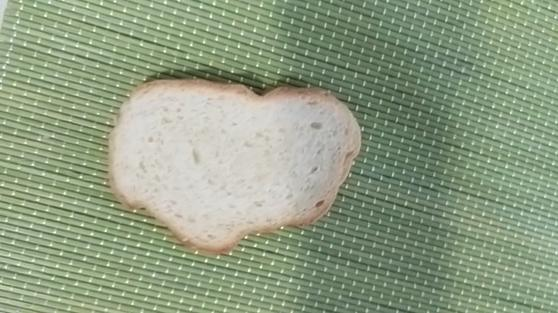white_bread: (105, 77, 365, 249)
